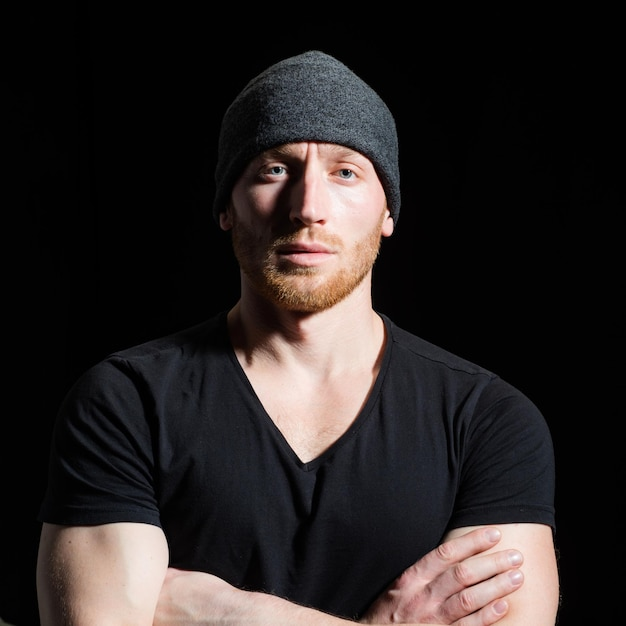young: (211, 77, 407, 322)
